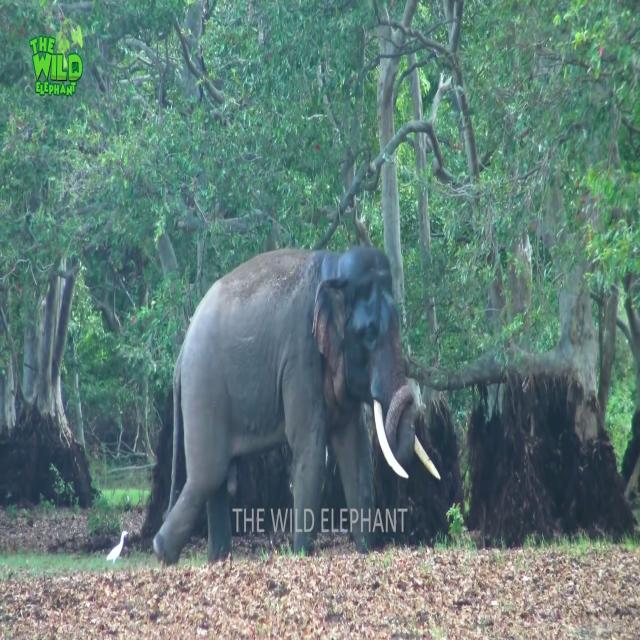Elephant: (151, 245, 441, 565)
